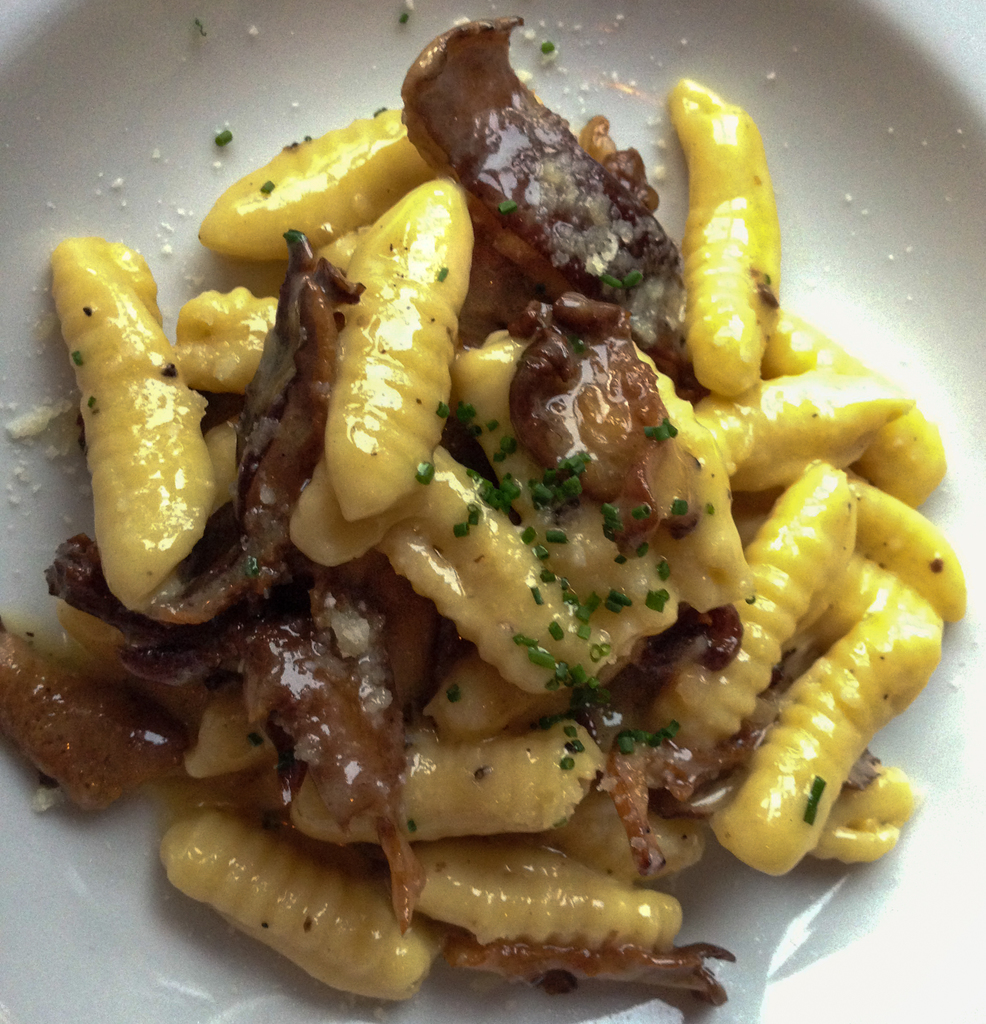pasta: (13, 60, 986, 1009)
